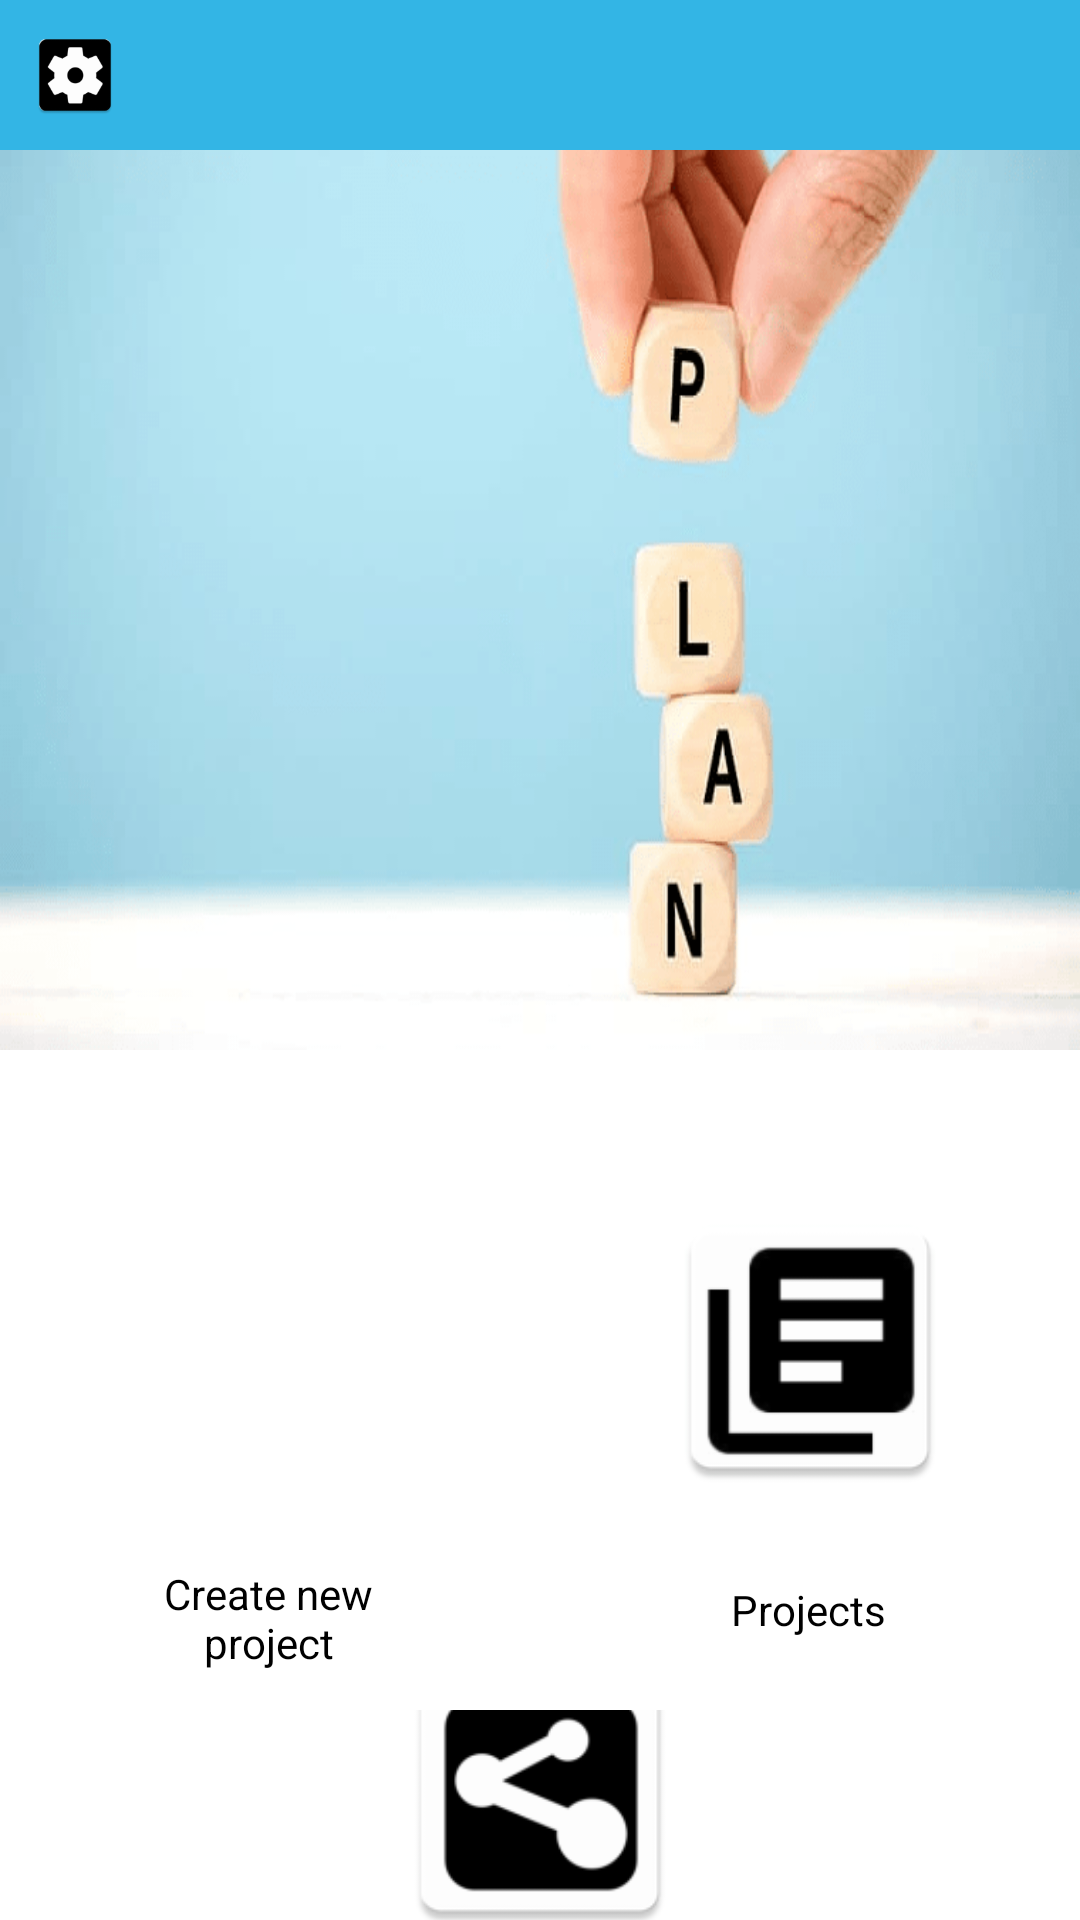

Locate icon controls on the screen. Image size 1080 × 1920, boxes as (x1, y1, x2, y2).
project list: (691, 1244, 930, 1476)
settings: (39, 39, 111, 113)
